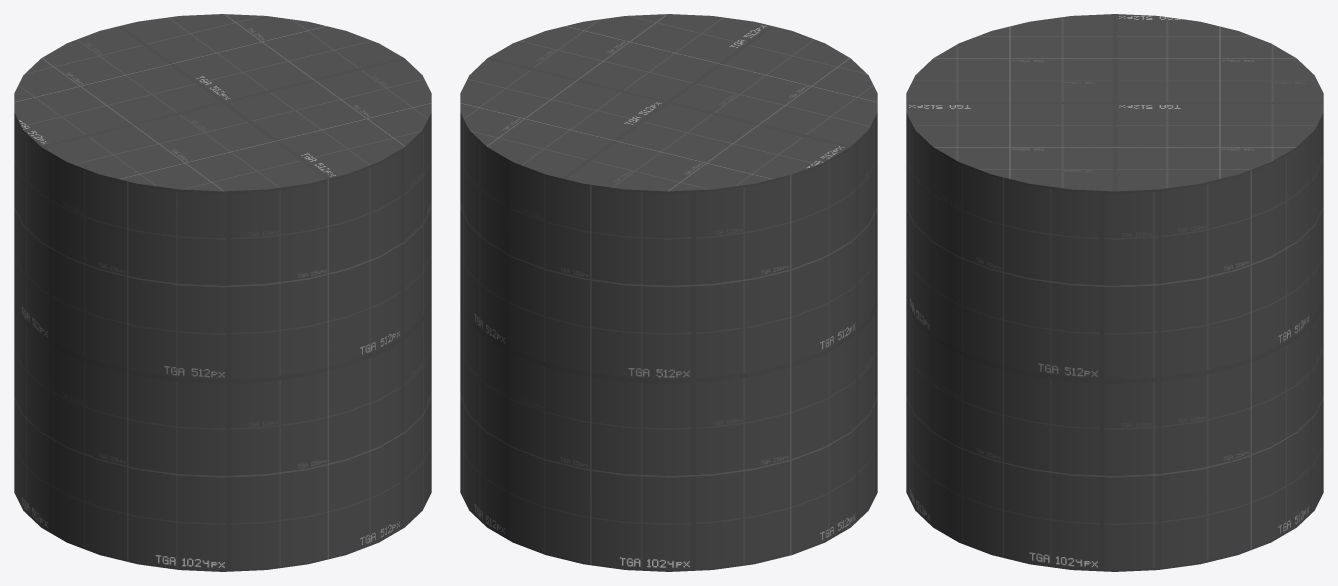
The model's file is SM_defaultCylinder.fbx.
The picture shows the model from 3 angles, left to right: view 1: azimuth 30°, elevation 25°; view 2: azimuth 150°, elevation 25°; view 3: azimuth 270°, elevation 25°; orthographic projection.
Visible parts, largest first — view 1: SM_defaultCylinder; view 2: SM_defaultCylinder; view 3: SM_defaultCylinder.
Boxes of the visible parts, x1,y1,x2,y2 form: SM_defaultCylinder: (14, 14, 431, 571); SM_defaultCylinder: (460, 14, 877, 571); SM_defaultCylinder: (906, 14, 1323, 571).
Size of the model in its own units: 100 by 100 by 99.45.
Materials: 1 (1 with a texture image).
